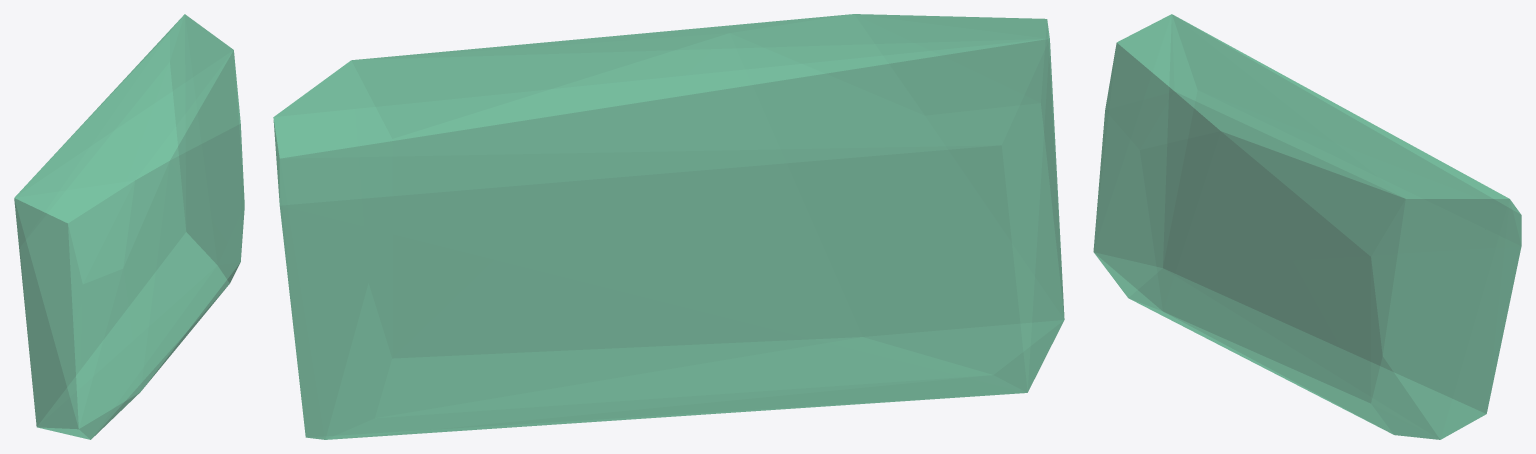
3 renders of one model, left to right at view 1: azimuth 30°, elevation 25°; view 2: azimuth 150°, elevation 25°; view 3: azimuth 270°, elevation 25°, orthographic. The views are drawn at different scales.
Parts seen in each view (by area): view 1: Shape_IndexedFaceSet.032_Shape_IndexedFaceSet.11176; view 2: Shape_IndexedFaceSet.032_Shape_IndexedFaceSet.11176; view 3: Shape_IndexedFaceSet.032_Shape_IndexedFaceSet.11176.
Part boxes in pixels (x1=…): Shape_IndexedFaceSet.032_Shape_IndexedFaceSet.11176: x1=14, y1=14, x2=244, y2=439; Shape_IndexedFaceSet.032_Shape_IndexedFaceSet.11176: x1=273, y1=14, x2=1064, y2=439; Shape_IndexedFaceSet.032_Shape_IndexedFaceSet.11176: x1=1093, y1=14, x2=1521, y2=439.
Size of the model in its own units: 0.1147 by 0.0799 by 0.1215.
